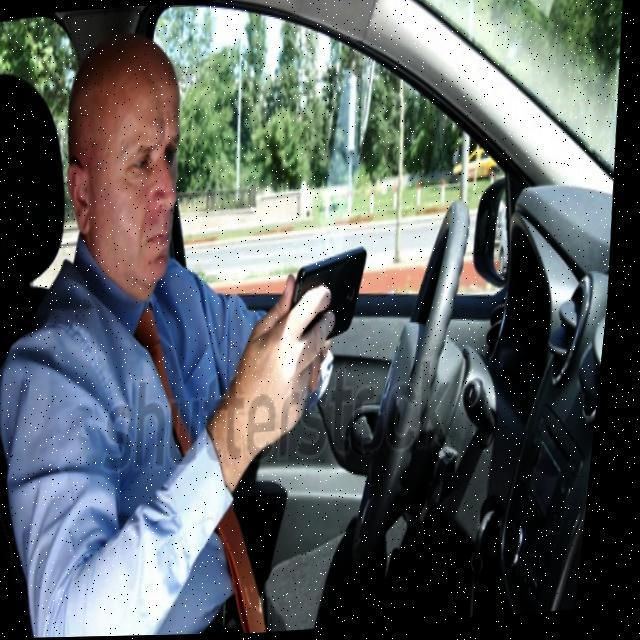PhoneCall: (290, 249, 377, 341)
